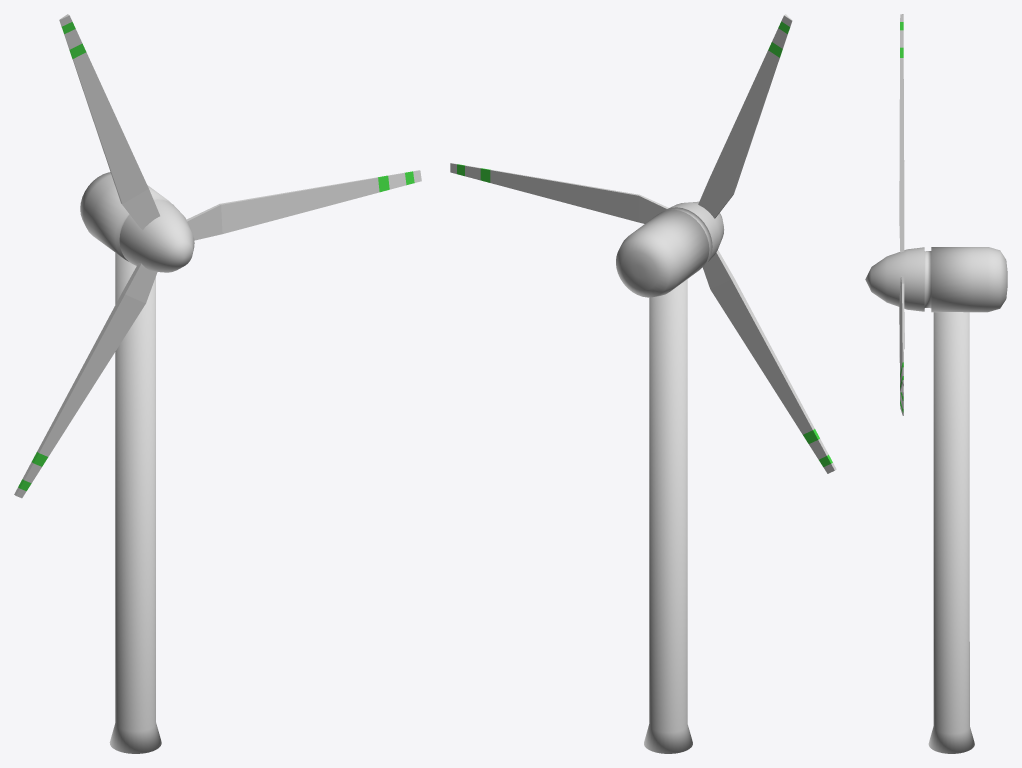
File: éolienne.glb
3 views of the same model, side by side, from view 1: azimuth 30°, elevation 25°; view 2: azimuth 150°, elevation 25°; view 3: azimuth 270°, elevation 25° (orthographic). The views are drawn at different scales.
Visible parts, largest first — view 1: Cylinder, Cylinder.001; view 2: Cylinder, Cylinder.001; view 3: Cylinder, Cylinder.001.
Part boxes in pixels (left/top/right/bottom): Cylinder: left=80, top=172, right=170, bottom=753; Cylinder.001: left=14, top=14, right=421, bottom=498; Cylinder: left=616, top=207, right=712, bottom=753; Cylinder.001: left=450, top=14, right=836, bottom=473; Cylinder: left=924, top=247, right=1007, bottom=753; Cylinder.001: left=865, top=14, right=924, bottom=415.
Bounding box in the file's own units: 4.62 × 8.39 × 1.57.
